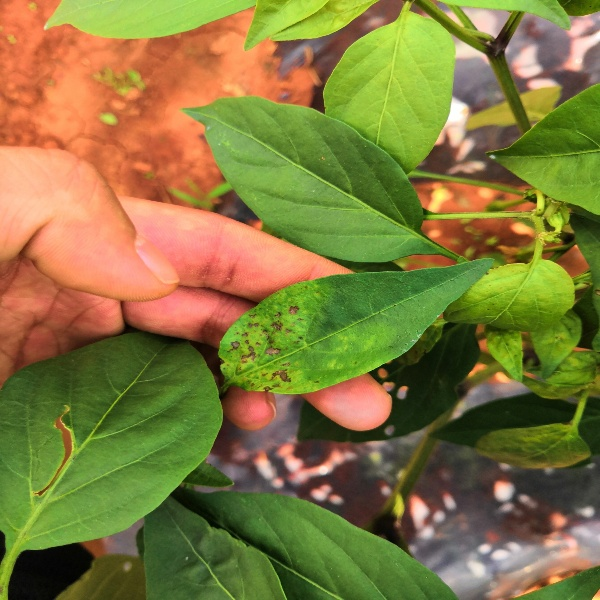Anthrax: (222, 256, 489, 391)
blight: (474, 17, 516, 63)
